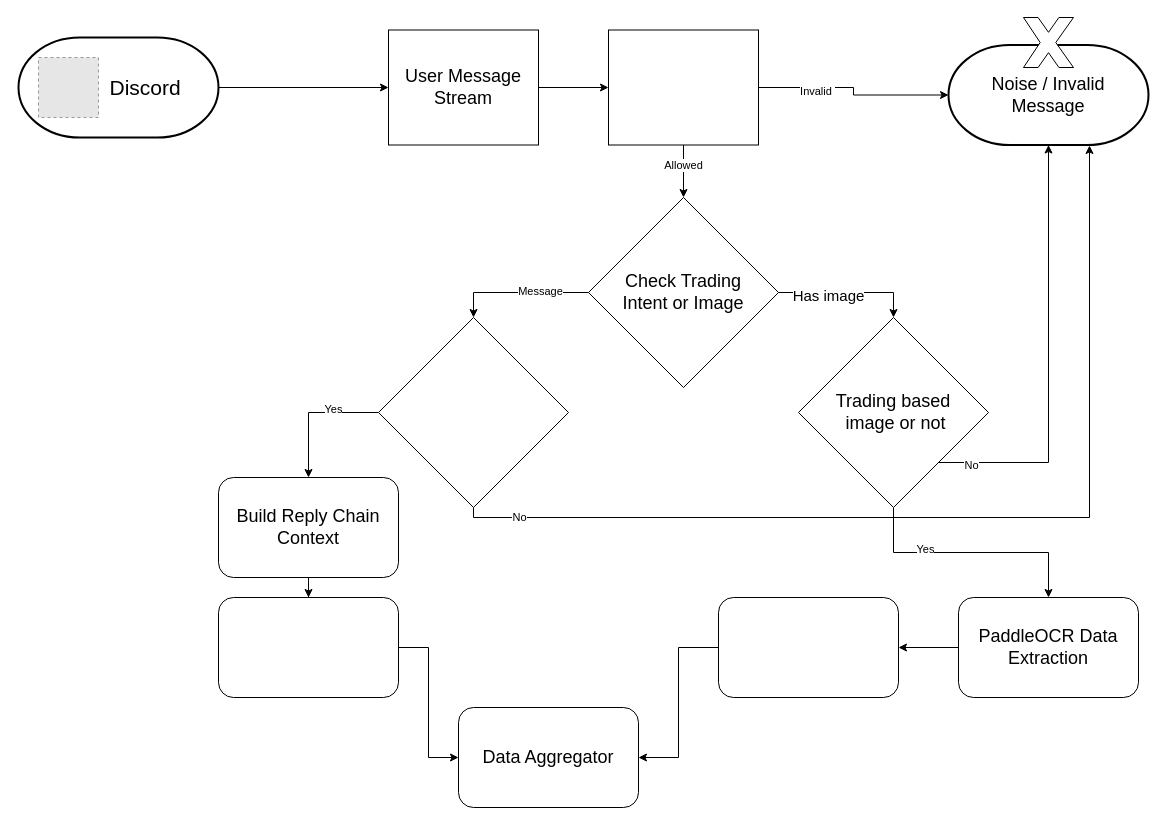
Some shapes in this 1166 by 825 pixel diagram are drawn without their labels. Grey dashed boxes stand in for pictures. Each missing label, with the centre of its shape:
"Classify / Format Message to structured data" belongs at (308,647).
"Has Trading Context" belongs at (473,412).
"Message Filter" belongs at (683,87).
"Vision LLM Data Extraction" belongs at (808,647).
